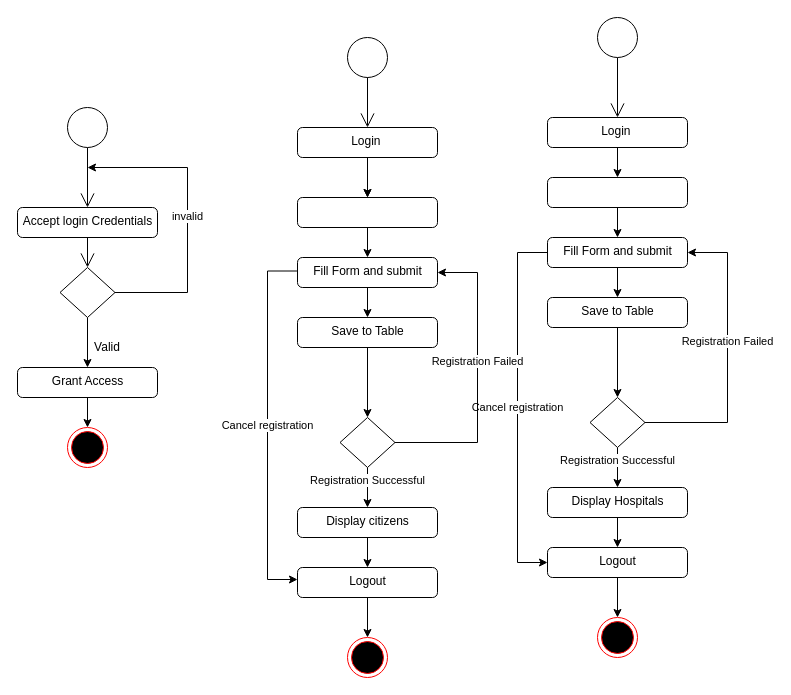
The diagram is 791 pixels wide and 695 high, and some of its shapes have lost their labels. The centre of each missing label's shape, as x and y in pixels:
"Select Register Citizens" belongs at [367,212].
"Select Register Hospital" belongs at [617,192].
